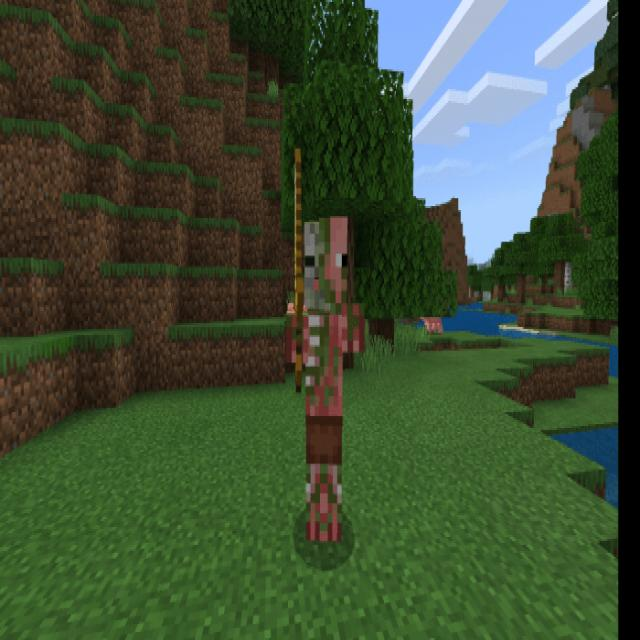Zombified Piglin: (288, 141, 369, 551)
